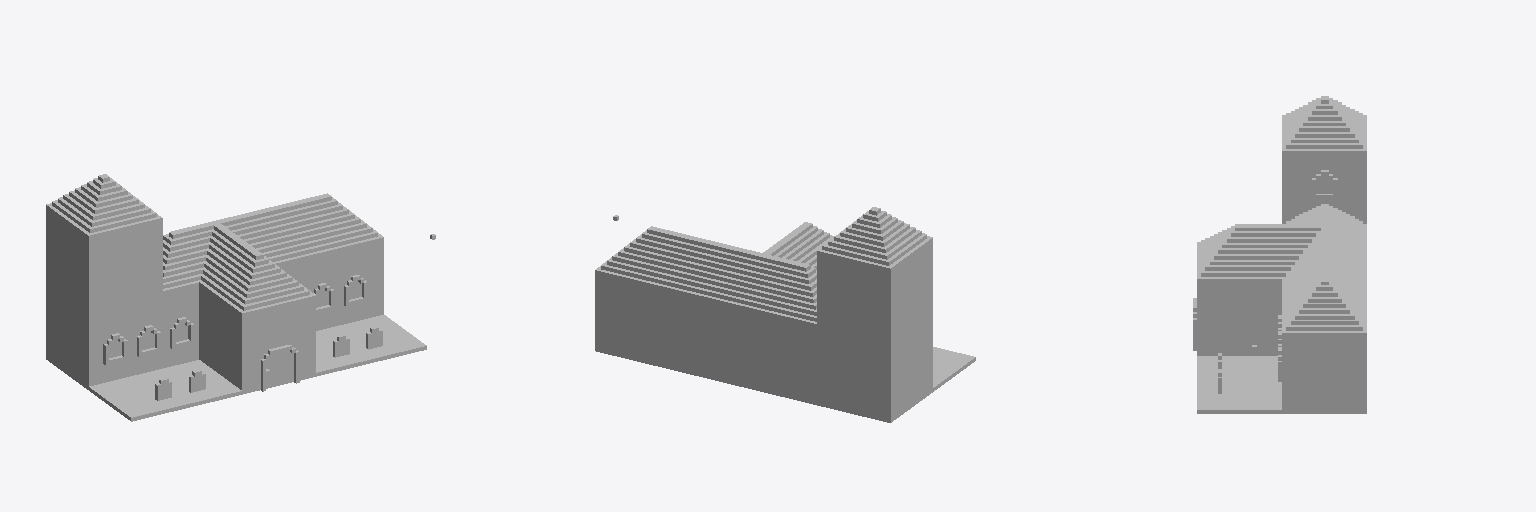
The model's file is Church.obj.
3 views of the same model, side by side, from view 1: azimuth 30°, elevation 25°; view 2: azimuth 150°, elevation 25°; view 3: azimuth 270°, elevation 25° (orthographic).
Size of the model in its own units: 90 by 49 by 41.